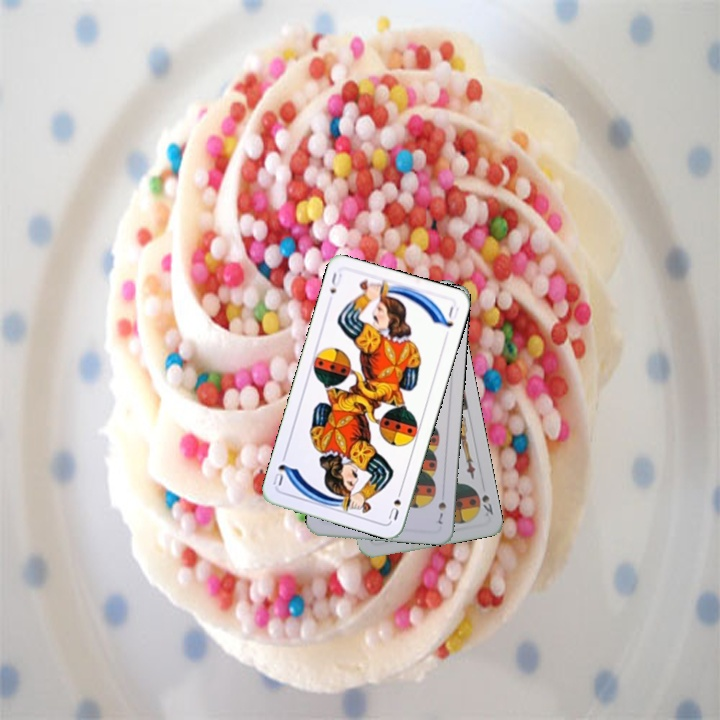S7: (434, 498, 449, 527)
SK: (478, 490, 496, 519)
SU: (384, 484, 405, 523), (326, 268, 345, 296)
